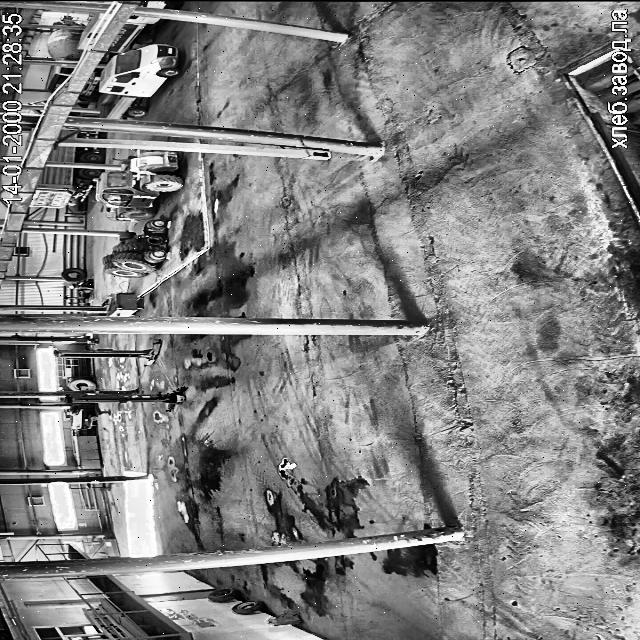car lift: (54, 340, 161, 365), (66, 388, 185, 410)
fire extinguisher: (268, 616, 300, 624)
tractor: (96, 151, 182, 220), (102, 220, 166, 278)
truck: (100, 44, 180, 119), (28, 167, 101, 208), (108, 16, 157, 52), (46, 26, 82, 60), (49, 146, 102, 163), (80, 12, 102, 48), (45, 66, 73, 91), (77, 74, 100, 104), (140, 0, 176, 8), (77, 132, 97, 140), (60, 130, 76, 136)
